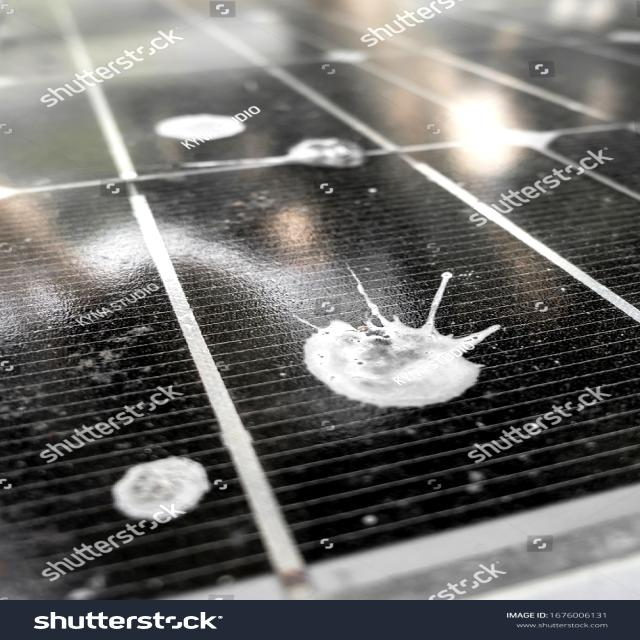bird: (239, 254, 563, 414), (92, 426, 224, 538), (244, 130, 429, 183), (134, 98, 258, 146)
